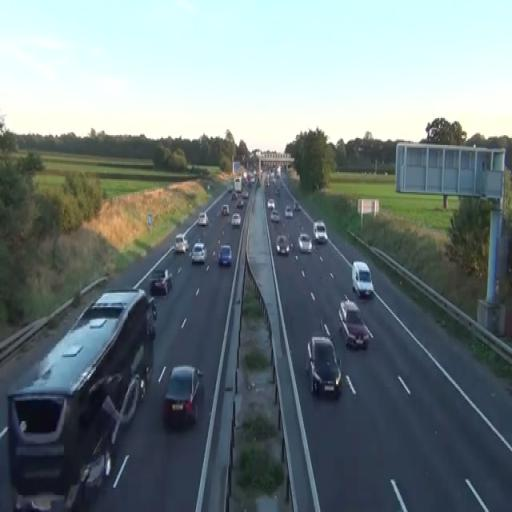Car: (162, 365, 204, 427), (306, 336, 342, 399), (338, 297, 370, 349), (352, 261, 373, 298), (149, 269, 173, 296), (190, 241, 206, 265), (313, 221, 328, 244), (218, 244, 232, 268), (298, 232, 313, 254), (276, 235, 290, 256), (174, 234, 188, 254), (198, 212, 208, 227), (232, 212, 241, 226), (272, 210, 280, 222)
Truck: (6, 288, 158, 506)
